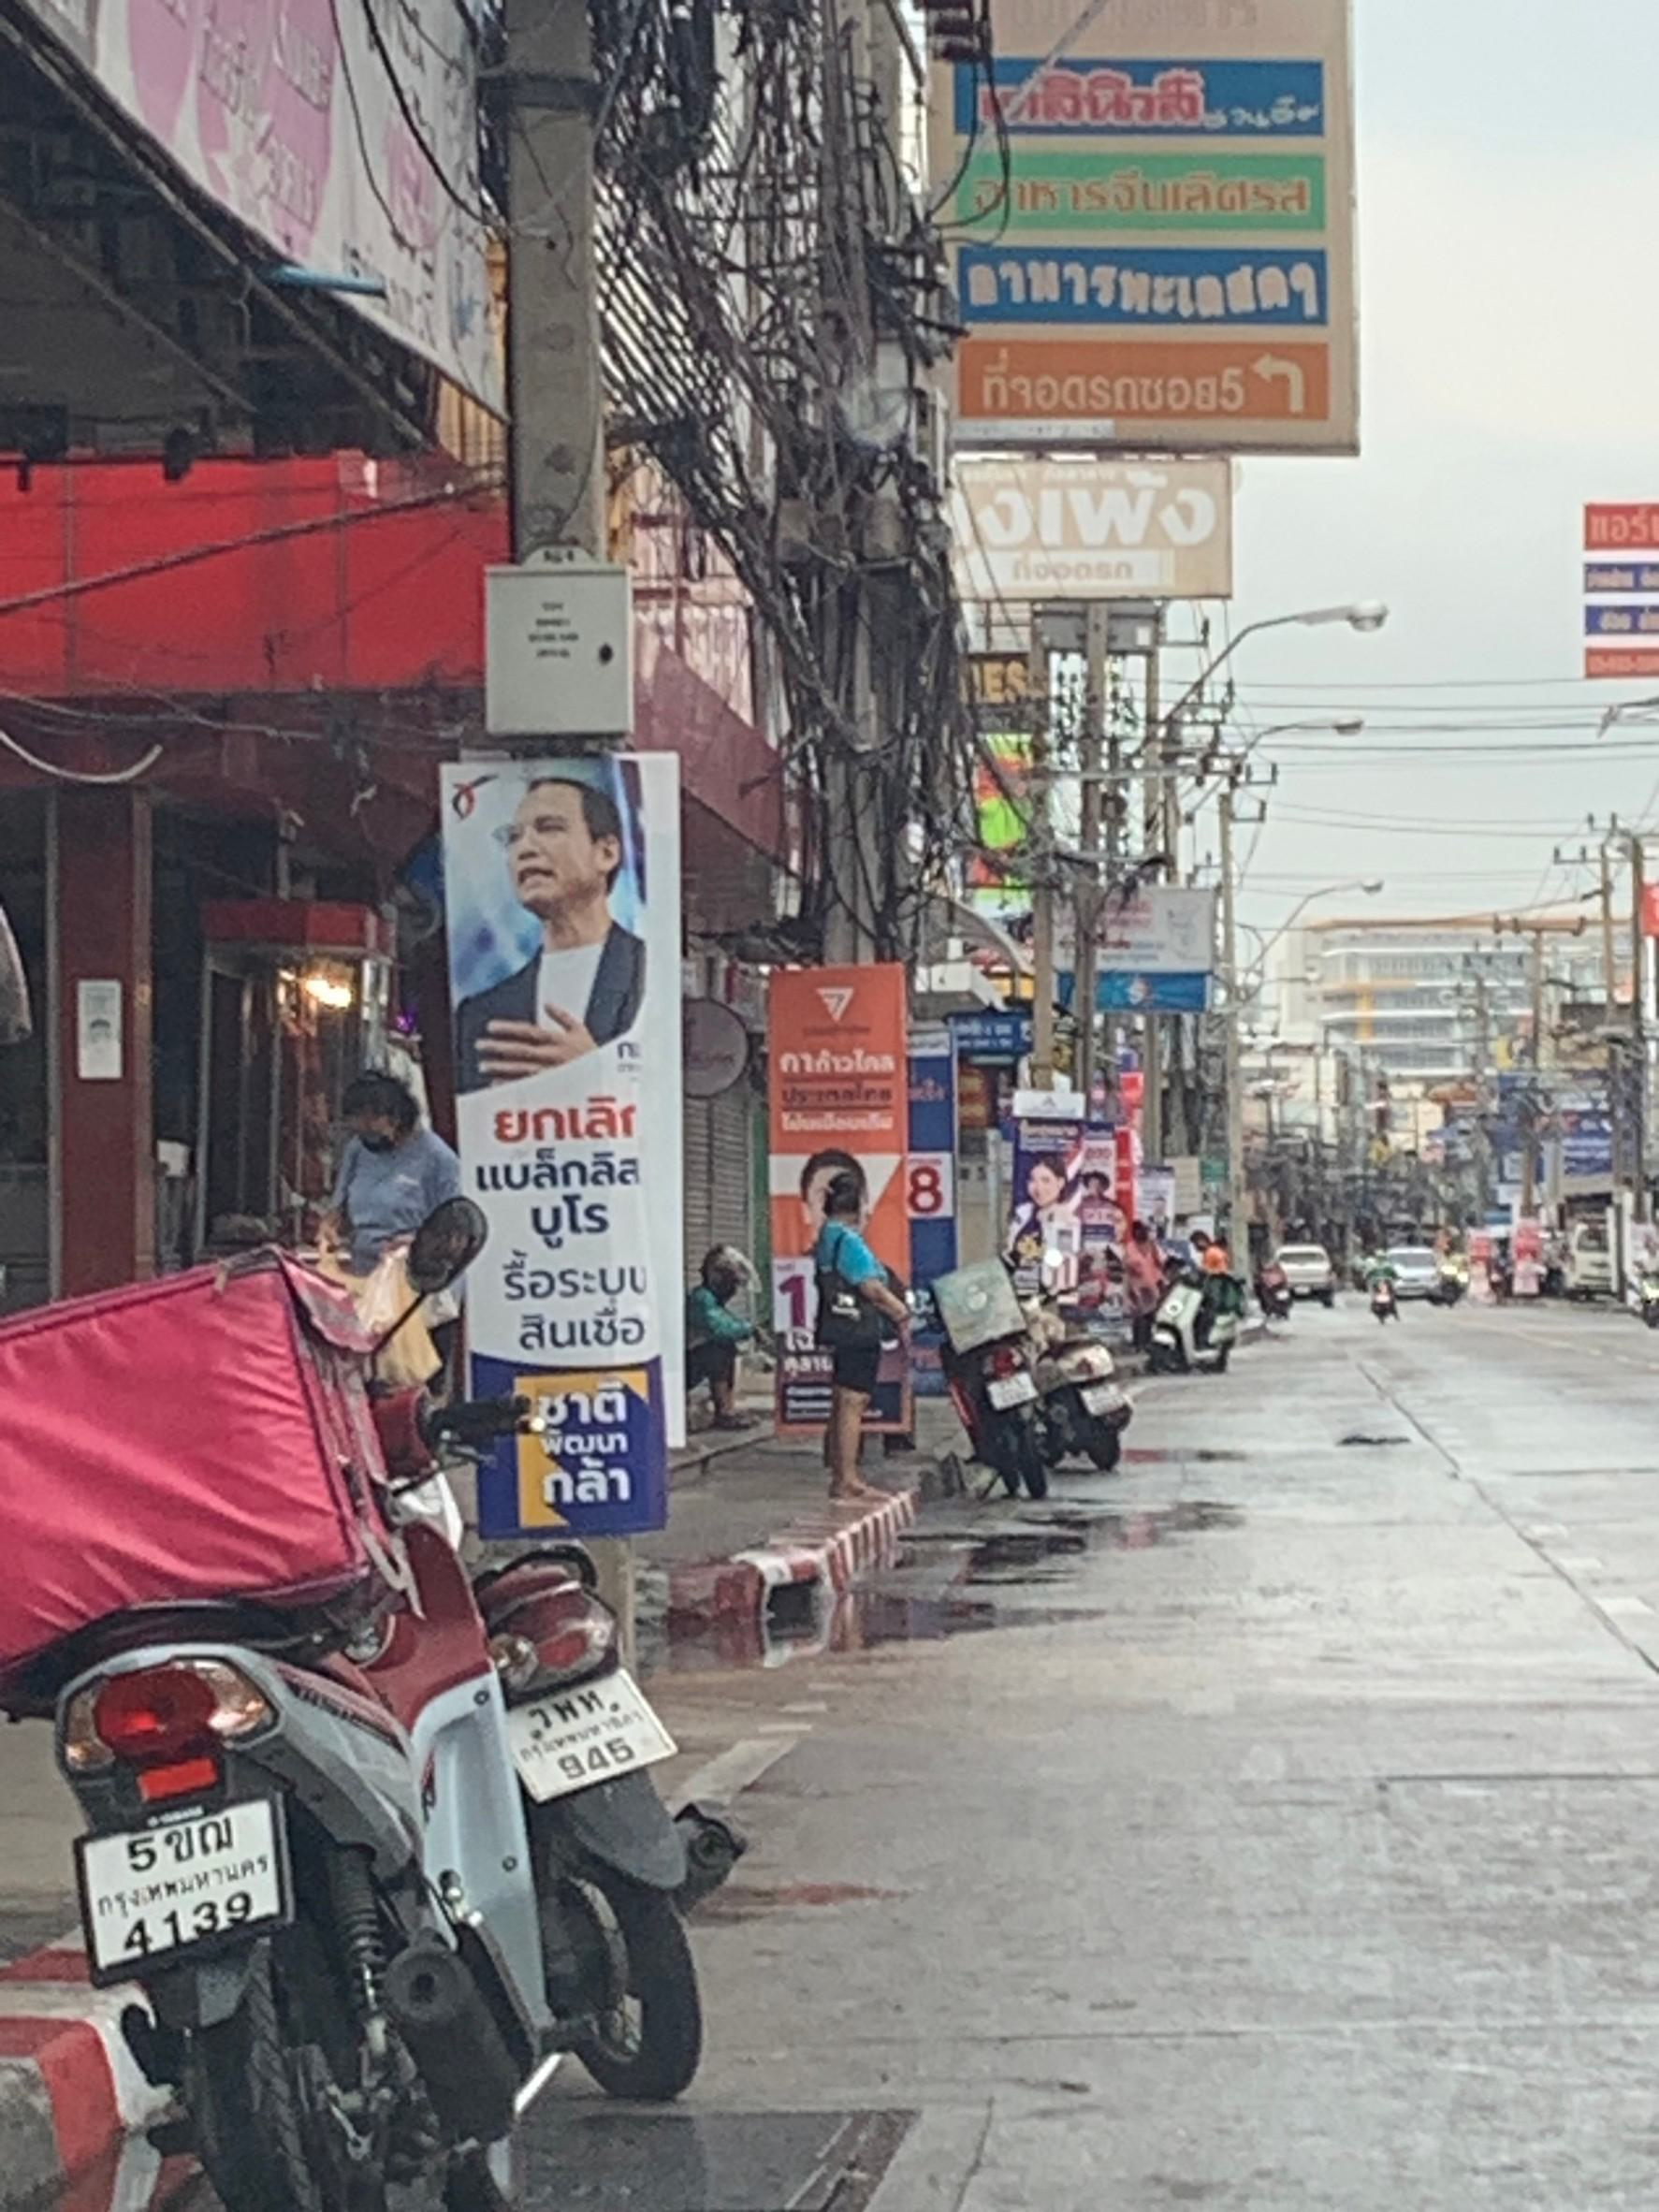Banner: (420, 726, 708, 1540)
